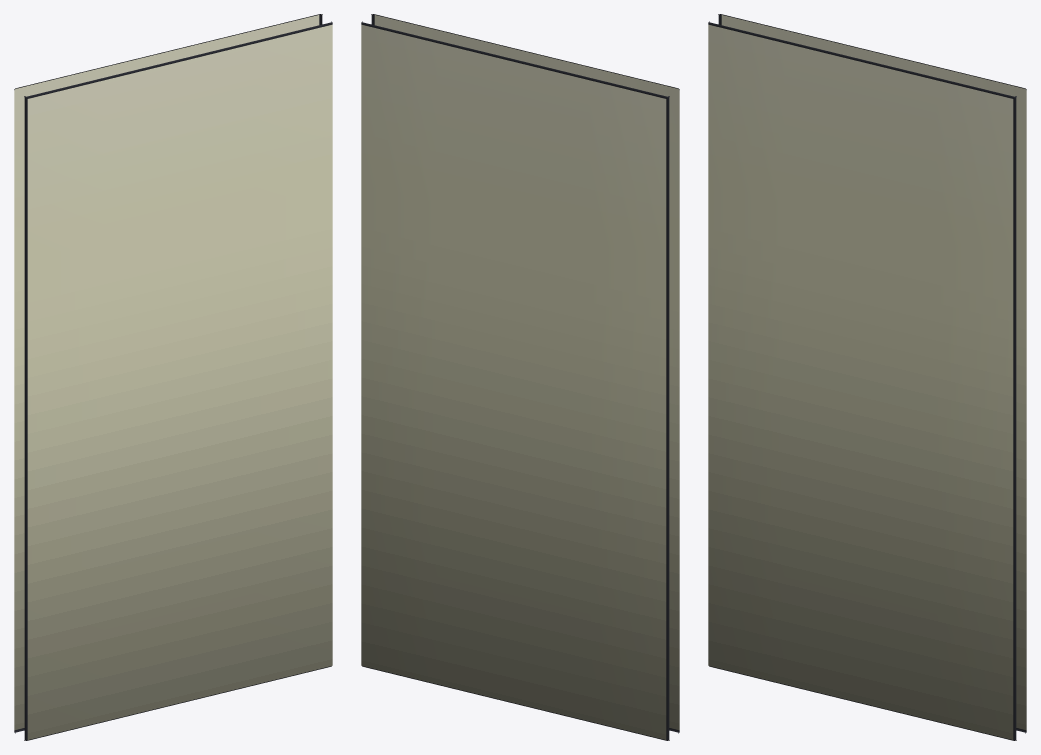
Rendered from SM_Wall_Tiles.fbx.
The picture shows the model from 3 angles, left to right: view 1: azimuth 30°, elevation 25°; view 2: azimuth 150°, elevation 25°; view 3: azimuth 330°, elevation 25°; orthographic projection.
Visible parts, largest first — view 1: tiling_wall; view 2: tiling_wall; view 3: tiling_wall.
Part boxes in pixels (bbox=[...]): tiling_wall: bbox=[14, 14, 332, 740]; tiling_wall: bbox=[361, 14, 679, 740]; tiling_wall: bbox=[708, 14, 1026, 740].
Size of the model in its own units: 200 by 400 by 15.
